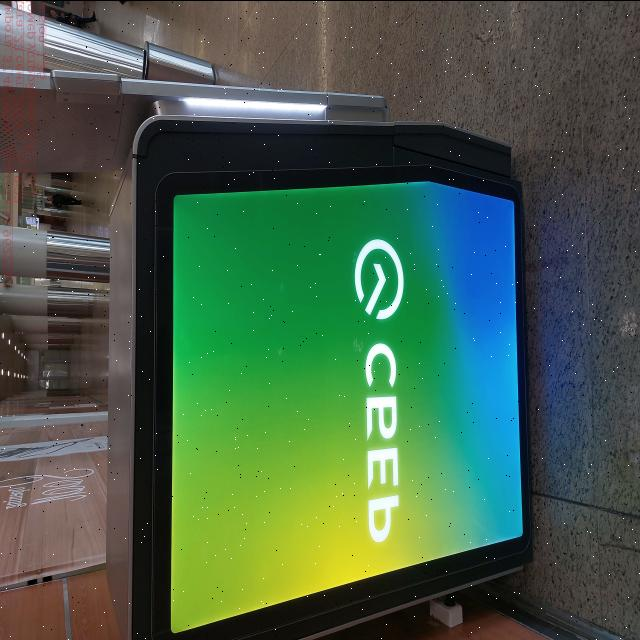bank: (0, 61, 530, 640)
